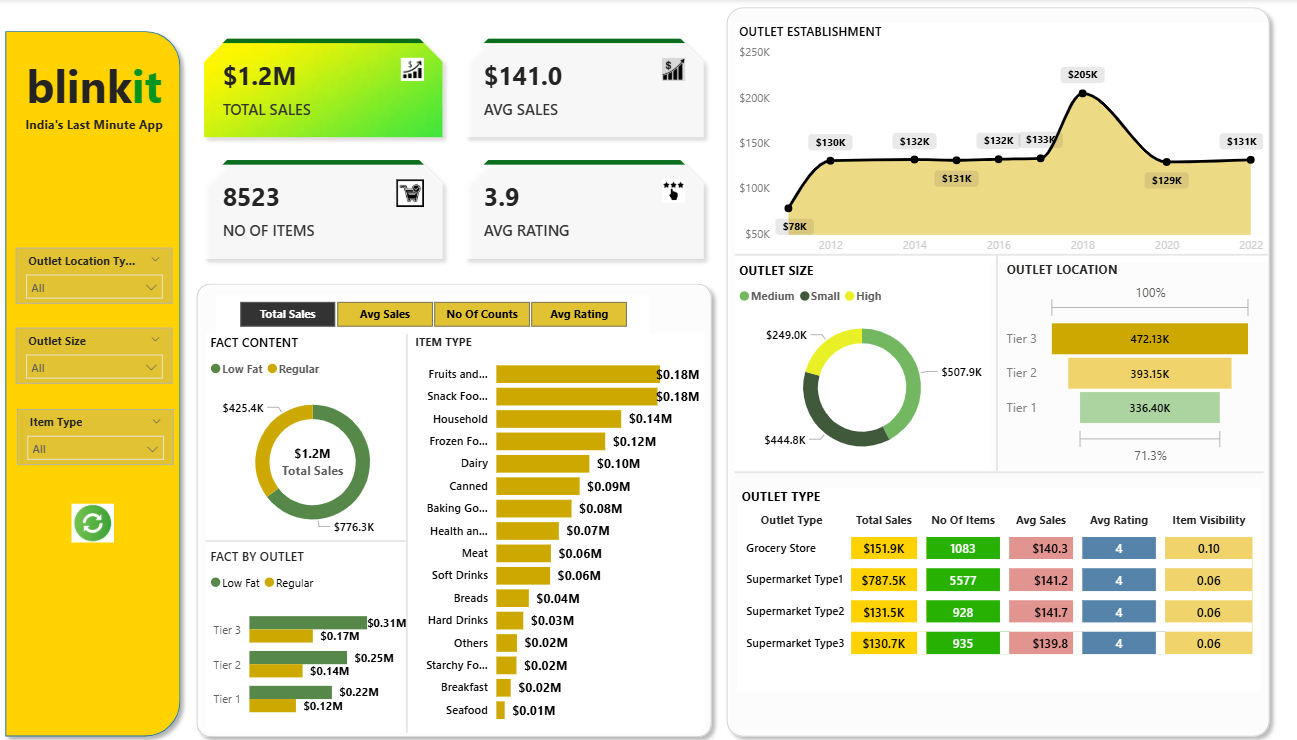

What the dashboard file says about the page in this screenshot:
{"tool":"powerbi","page":{"name":"Page 1","canvas":[1400,800],"ordinal":0},"visuals":[{"type":"shape","box":[0,25.5,205.6,774.4],"z":0},{"type":"textbox","box":[19.5,55.5,168.1,81],"z":1000},{"type":"textbox","box":[25.5,120.1,157.6,33],"z":2000},{"type":"cardVisual","fields":{"Data":["BlinkIT Grocery Data.Total Sales","BlinkIT Grocery Data.Avg Sales","BlinkIT Grocery Data.No Of Counts","BlinkIT Grocery Data.Avg Rating"]},"box":[205.6,25.5,570.3,270.2],"z":3000},{"type":"shape","box":[205.6,295.7,570.3,504.3],"z":4000},{"type":"donutChart","title":"FACT CONTENT","fields":{"Y":["BlinkIT Grocery Data.Total Sales"],"Category":["BlinkIT Grocery Data.Item Fat Content"]},"box":[223.6,358.7,229.6,229.6],"z":5000},{"type":"slicer","fields":{"Values":["Matrics.Matrics"]},"box":[234.1,318.2,465,40.5],"z":6000},{"type":"cardVisual","fields":{"Data":["BlinkIT Grocery Data.Total Sales"]},"box":[285.2,460.8,106.6,63],"z":7000},{"type":"clusteredBarChart","title":"FACT BY OUTLET","fields":{"Y":["BlinkIT Grocery Data.Total Sales"],"Category":["BlinkIT Grocery Data.Outlet Location Type"],"Series":["BlinkIT Grocery Data.Item Fat Content"]},"box":[223.6,588.3,220.6,198.1],"z":8000},{"type":"shape","box":[223.6,573.3,216.1,15],"z":9000},{"type":"shape","box":[433.7,358.7,10.5,427.7],"z":10000},{"type":"barChart","title":"ITEM TYPE","fields":{"Y":["BlinkIT Grocery Data.Total Sales"],"Category":["BlinkIT Grocery Data.Item Type"]},"box":[444.3,358.7,315.2,427.7],"z":11000},{"type":"shape","box":[772.9,0,600.3,800],"z":12000},{"type":"lineChart","title":"OUTLET ESTABLISHMENT","fields":{"Y":["BlinkIT Grocery Data.Total Sales"],"Category":["BlinkIT Grocery Data.Outlet Establishment Year"]},"box":[791,25.5,571.8,256.6],"z":13000},{"type":"shape","box":[791,267.2,571.8,15],"z":14000},{"type":"donutChart","title":"OUTLET SIZE","fields":{"Y":["BlinkIT Grocery Data.Total Sales"],"Category":["BlinkIT Grocery Data.Outlet Size"]},"box":[791,282.2,274,225],"z":15000},{"type":"shape","box":[1067.1,274.7,10.5,231.1],"z":16000},{"type":"funnel","title":"OUTLET LOCATION","fields":{"Y":["Sum(BlinkIT Grocery Data.Sales)"],"Category":["BlinkIT Grocery Data.Outlet Location Type"]},"box":[1077.6,280.7,274,225],"z":17000},{"type":"shape","box":[791,499.8,567.3,15],"z":18000},{"type":"pivotTable","title":"OUTLET TYPE","fields":{"Rows":["BlinkIT Grocery Data.Outlet Type"],"Values":["BlinkIT Grocery Data.Total Sales","BlinkIT Grocery Data.No Of Counts","BlinkIT Grocery Data.Avg Sales","BlinkIT Grocery Data.Avg Rating","Avg(BlinkIT Grocery Data.Item Visibility)"]},"box":[794,523.8,561.3,217.6],"z":19000},{"type":"slicer","fields":{"Values":["BlinkIT Grocery Data.Outlet Location Type"]},"box":[19.5,267.2,168.1,60],"z":20000},{"type":"slicer","fields":{"Values":["BlinkIT Grocery Data.Outlet Size"]},"box":[19.5,352.7,168.1,60],"z":21000},{"type":"slicer","fields":{"Values":["BlinkIT Grocery Data.Item Type"]},"box":[21,439.8,168.1,60],"z":22000},{"type":"image","box":[75,534.3,55.5,54],"z":23000}]}

Visuals, with their boxes in screenshot pixels (x1, y1, x2, y2), scaled from the page's 1400x800 canvas onto the 1297x740 screenshot:
shape: x1=0 y1=24 x2=190 y2=739
textbox: x1=18 y1=51 x2=174 y2=126
textbox: x1=24 y1=111 x2=170 y2=142
cardVisual - BlinkIT Grocery Data.Total Sales x BlinkIT Grocery Data.Avg Sales: x1=190 y1=24 x2=719 y2=274
shape: x1=190 y1=274 x2=719 y2=739
"FACT CONTENT" donutChart: x1=207 y1=332 x2=420 y2=544
slicer - Matrics.Matrics: x1=217 y1=294 x2=648 y2=332
cardVisual - BlinkIT Grocery Data.Total Sales: x1=264 y1=426 x2=363 y2=485
"FACT BY OUTLET" clusteredBarChart: x1=207 y1=544 x2=412 y2=727
shape: x1=207 y1=530 x2=407 y2=544
shape: x1=402 y1=332 x2=412 y2=727
"ITEM TYPE" barChart: x1=412 y1=332 x2=704 y2=727
shape: x1=716 y1=0 x2=1272 y2=739
"OUTLET ESTABLISHMENT" lineChart: x1=733 y1=24 x2=1263 y2=261
shape: x1=733 y1=247 x2=1263 y2=261
"OUTLET SIZE" donutChart: x1=733 y1=261 x2=987 y2=469
shape: x1=989 y1=254 x2=998 y2=468
"OUTLET LOCATION" funnel: x1=998 y1=260 x2=1252 y2=468
shape: x1=733 y1=462 x2=1258 y2=476
"OUTLET TYPE" pivotTable: x1=736 y1=485 x2=1256 y2=686
slicer - BlinkIT Grocery Data.Outlet Location Type: x1=18 y1=247 x2=174 y2=303
slicer - BlinkIT Grocery Data.Outlet Size: x1=18 y1=326 x2=174 y2=382
slicer - BlinkIT Grocery Data.Item Type: x1=19 y1=407 x2=175 y2=462
image: x1=69 y1=494 x2=121 y2=544
